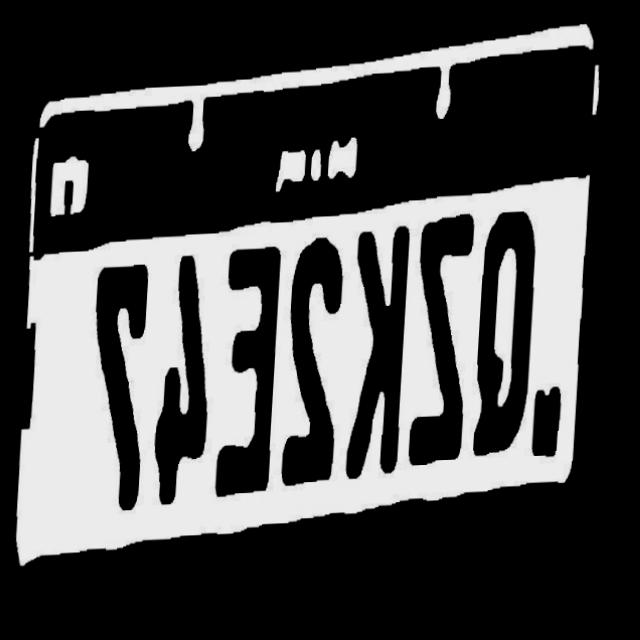2: (284, 239, 353, 490)
4: (155, 251, 222, 515)
7: (86, 256, 162, 514)
e: (218, 243, 288, 500)
k: (350, 228, 417, 484)
q: (477, 206, 546, 472)
z: (412, 208, 483, 476)
